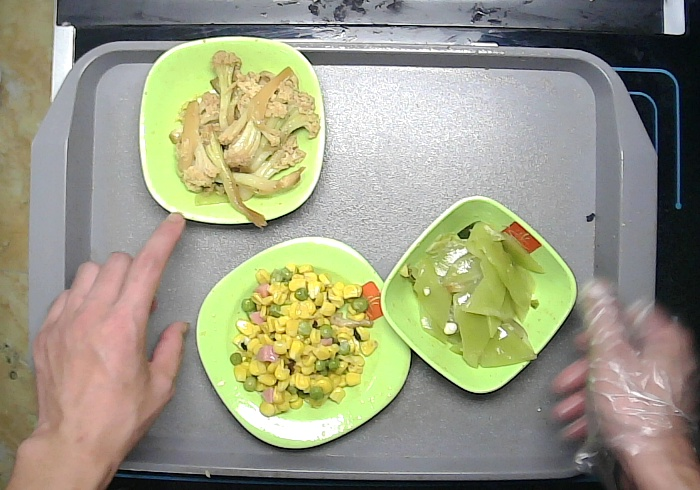SHKJ-Lv_Se_Cai_Die: (136, 33, 329, 226)
SHKJ-Lv_Se_Si_Fang_Cai_Die: (194, 234, 413, 450)
SHKJ-Lv_Se_Xiao_Fang_Die: (378, 193, 580, 395)
